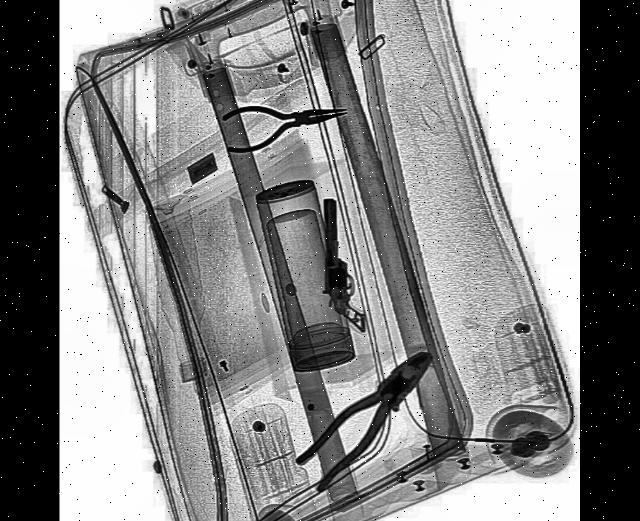Gun: (324, 197, 366, 331)
Pliers: (296, 334, 443, 498), (222, 88, 350, 156)
